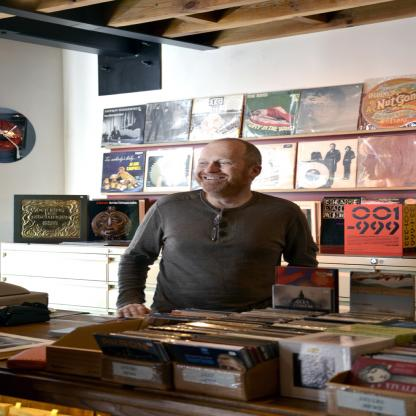book: (90, 304, 416, 396), (294, 197, 416, 256), (273, 265, 346, 317), (292, 83, 364, 134), (360, 74, 416, 130), (356, 134, 416, 186), (296, 138, 352, 189), (240, 88, 299, 136), (187, 91, 241, 140), (99, 148, 148, 194), (143, 98, 194, 140), (252, 140, 294, 190), (143, 148, 189, 192), (272, 285, 340, 313), (101, 102, 141, 147), (194, 148, 206, 188)
